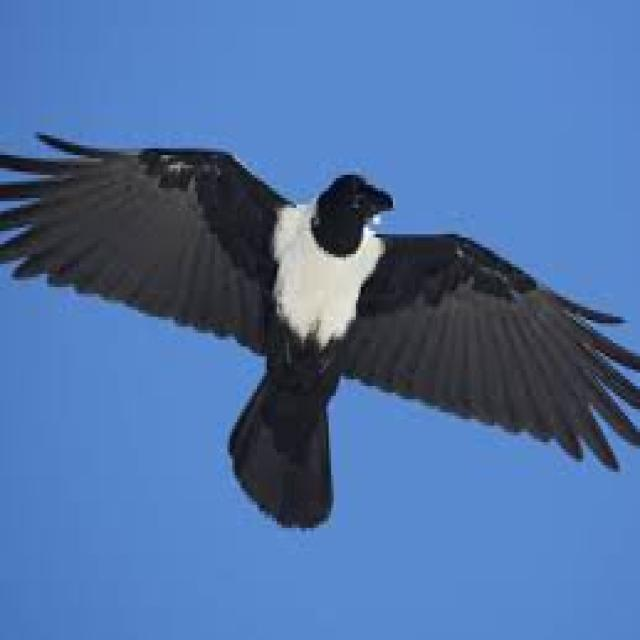crow: (178, 130, 430, 423)
